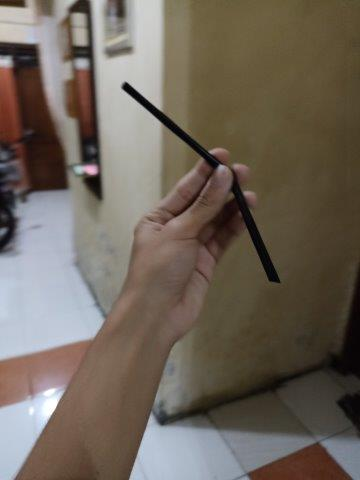sedotan: (119, 81, 281, 282)
